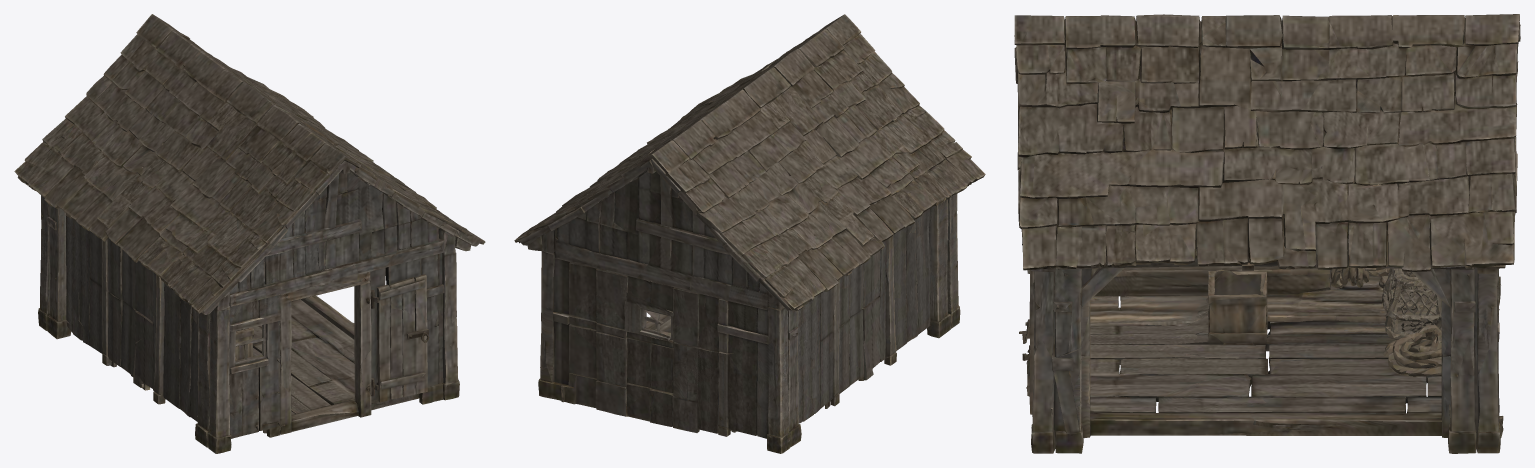
Rendered from dock_shed.glb.
3 views of the same model, side by side, from view 1: azimuth 30°, elevation 25°; view 2: azimuth 150°, elevation 25°; view 3: azimuth 270°, elevation 25° (orthographic). The views are drawn at different scales.
Parts seen in each view (by area): view 1: dock_shed; view 2: dock_shed; view 3: dock_shed.
Part boxes in pixels (bbox=[...]): dock_shed: bbox=[14, 14, 485, 453]; dock_shed: bbox=[514, 14, 985, 453]; dock_shed: bbox=[1014, 14, 1520, 453].
Size of the model in its own units: 1.62 by 1.49 by 1.88.
1 material, 1 textured.
